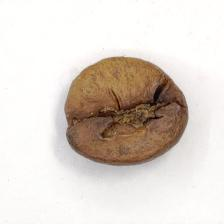NG: (73, 69, 174, 143)
